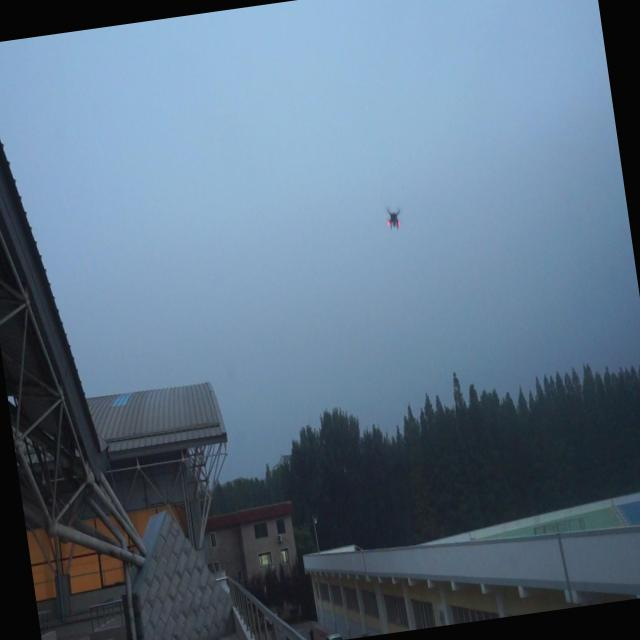drone: (384, 202, 406, 232)
